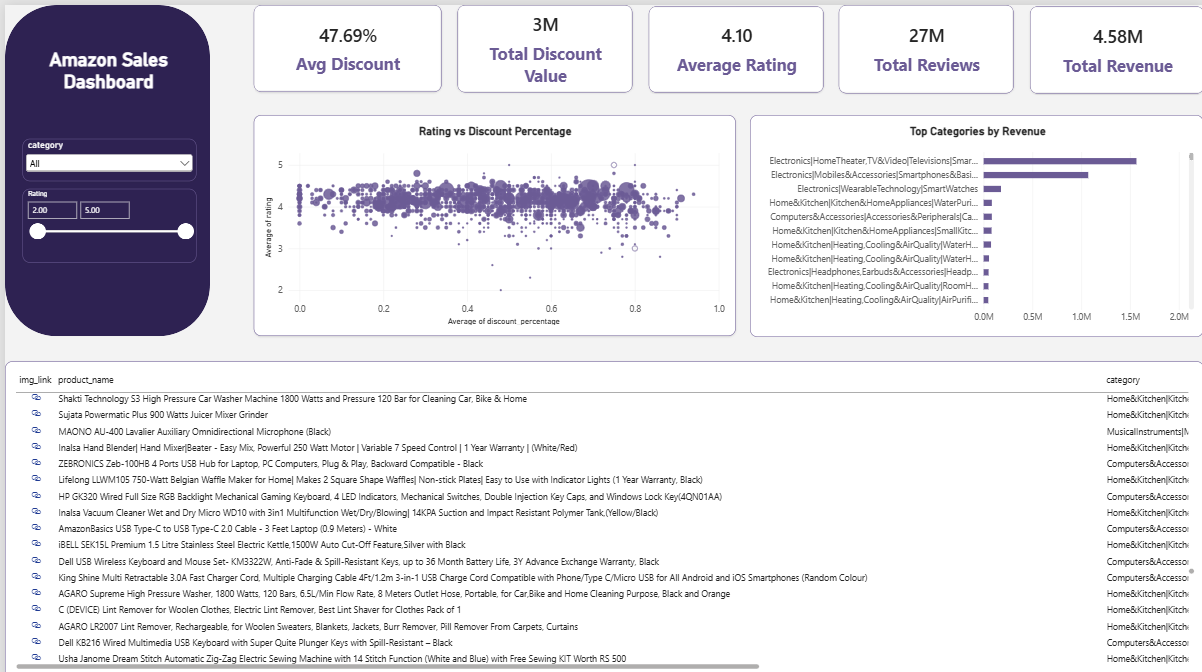

This screenshot's page, from the dashboard's own definition file:
{"tool":"powerbi","page":{"name":"Page 1","canvas":[1920,1080],"ordinal":0},"visuals":[{"type":"shape","box":[0,0,328,530],"z":0},{"type":"cardVisual","title":"Total Discount Value","fields":{"Data":["amazon.Total Discount Value"]},"box":[723.9,0,280,140],"z":1000},{"type":"cardVisual","title":"Total revierw ","fields":{"Data":["Sum(amazon.rating_count)"]},"box":[1334.6,0,280,141.4],"z":2000},{"type":"cardVisual","title":"Averge Rate","fields":{"Data":["amazon.avg rate"]},"box":[1029.3,1.4,280,138.6],"z":3000},{"type":"cardVisual","title":"Total revenue","fields":{"Data":["amazon.total descounteed value"]},"box":[1640,1.4,280,140],"z":4000},{"type":"cardVisual","fields":{"Data":["amazon.Avg Discount"]},"box":[398.1,0,300.4,139.3],"z":5000},{"type":"clusteredBarChart","title":"Top Categories by Revenue","fields":{"Category":["amazon.category"],"Y":["amazon.total descounteed value"]},"box":[1192.5,176.2,727.5,355],"z":6000},{"type":"scatterChart","title":"Rating vs Discount Percentage","fields":{"Category":["amazon.product_name"],"Size":["Sum(amazon.rating_count)"],"X":["Avg(amazon.discount_percentage)"],"Y":["Avg(amazon.rating)"]},"box":[397.7,176.7,771.2,353.5],"z":7000},{"type":"tableEx","fields":{"Values":["amazon.img_link","amazon.product_name","amazon.category","Sum(amazon.discounted_price)","Sum(amazon.actual_price)","Sum(amazon.rating)","amazon.product_link"]},"box":[0,570,1920,510],"z":8000},{"type":"slicer","fields":{"Values":["amazon.category"]},"box":[28,214,278,68],"z":9000},{"type":"slicer","fields":{"Values":["amazon.rating"]},"box":[28,294,278,118],"z":10000},{"type":"textbox","title":"Amazon Sales Dashboard","box":[64,70,204,106],"z":11000}]}

Visuals, with their boxes in screenshot pixels (x1, y1, x2, y2), scaled from the page's 1920x1080 canvas onto the 1202x672 screenshot:
shape: <bbox>0, 0, 205, 330</bbox>
"Total Discount Value" cardVisual: <bbox>453, 0, 628, 87</bbox>
"Total revierw " cardVisual: <bbox>836, 0, 1011, 88</bbox>
"Averge Rate" cardVisual: <bbox>644, 1, 820, 87</bbox>
"Total revenue" cardVisual: <bbox>1027, 1, 1201, 88</bbox>
cardVisual - amazon.Avg Discount: <bbox>249, 0, 437, 87</bbox>
"Top Categories by Revenue" clusteredBarChart: <bbox>747, 110, 1201, 331</bbox>
"Rating vs Discount Percentage" scatterChart: <bbox>249, 110, 732, 330</bbox>
tableEx - amazon.img_link x amazon.product_name: <bbox>0, 355, 1201, 671</bbox>
slicer - amazon.category: <bbox>18, 133, 192, 175</bbox>
slicer - amazon.rating: <bbox>18, 183, 192, 256</bbox>
"Amazon Sales Dashboard" textbox: <bbox>40, 44, 168, 110</bbox>
